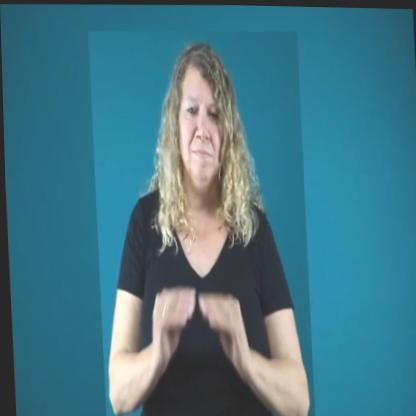Fix: (87, 26, 312, 416)
